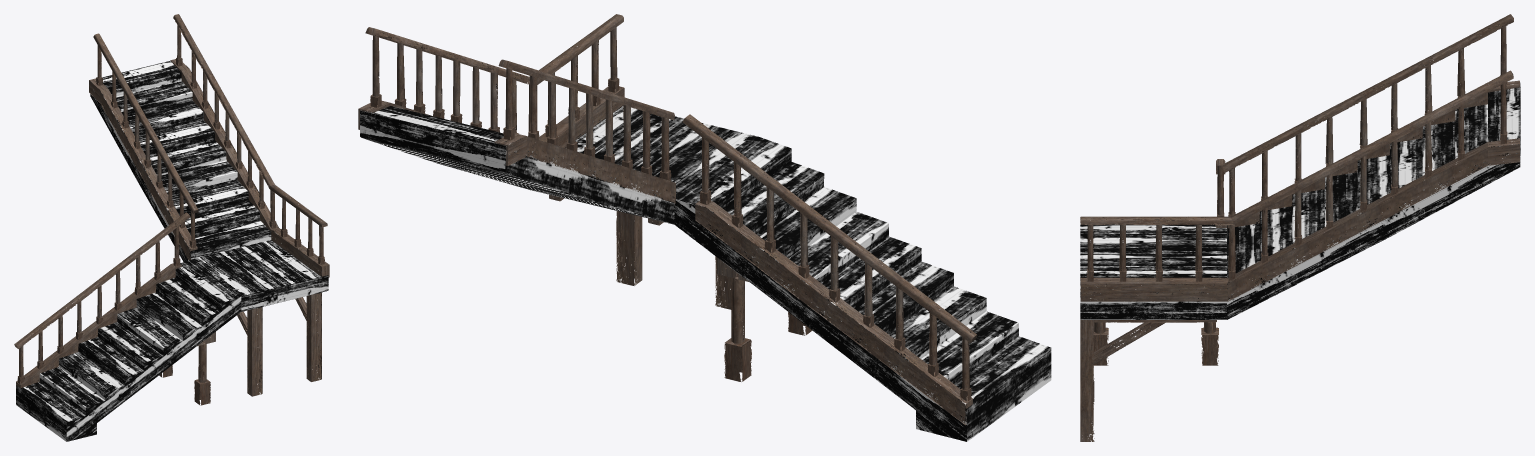
Rendered from SM_stairs_01.fbx.
3 views of the same model, side by side, from view 1: azimuth 30°, elevation 25°; view 2: azimuth 150°, elevation 25°; view 3: azimuth 270°, elevation 25° (orthographic). The views are drawn at different scales.
Visible parts, largest first — view 1: SM_stairs_01_LOD0; view 2: SM_stairs_01_LOD0; view 3: SM_stairs_01_LOD0.
Part boxes in pixels (x1,y1,x2,y2): SM_stairs_01_LOD0: (14,14,329,441); SM_stairs_01_LOD0: (358,14,1051,441); SM_stairs_01_LOD0: (1080,14,1520,441).
Size of the model in its own units: 609 by 600 by 560.
Materials: 2 (2 with a texture image).
